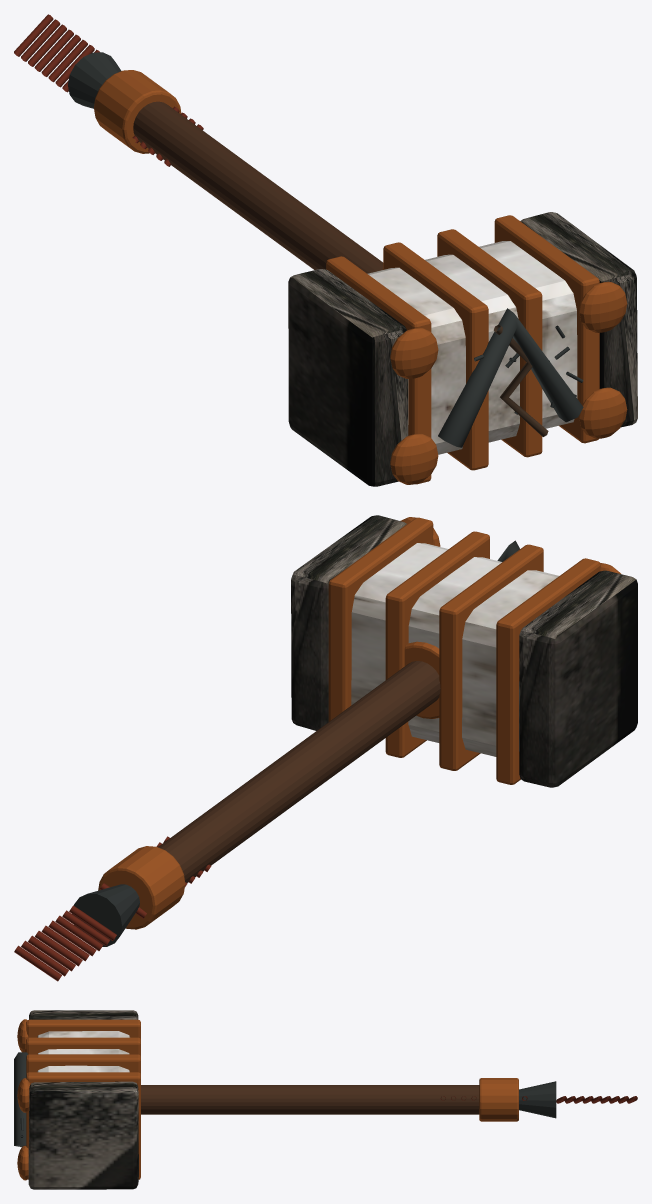
File: colossus_maul_LOD0.glb
The picture shows the model from 3 angles, top to bottom: view 1: azimuth 30°, elevation 25°; view 2: azimuth 150°, elevation 25°; view 3: azimuth 270°, elevation 25°; orthographic projection. The views are drawn at different scales.
Visible parts, largest first — view 1: MaulImpactFace, ColossusMaulStoneCore, MaulBlackOakHaft, MaulImpactFace.001, MaulLambda, MaulBronzeBand.002, MaulBronzeBand.001, MaulBronzeBand.003, MaulBronzeBand, MaulButtCap, MaulBronzeBoss.001, MaulBronzeBoss (+4 smaller); view 2: MaulImpactFace, ColossusMaulStoneCore, MaulBlackOakHaft, MaulImpactFace.001, MaulBronzeBand.001, MaulBronzeBand, MaulBronzeBand.003, MaulBronzeBand.002, MaulButtCap, MaulButtSpike, MaulBronzeSocket; view 3: MaulImpactFace.001, MaulBlackOakHaft, MaulButtCap, ColossusMaulStoneCore, MaulBronzeBand, MaulBronzeBand.002, MaulBronzeBand.001, MaulBronzeBand.003, MaulButtSpike, MaulImpactFace, MaulLambda, MaulBronzeBoss.003 (+2 smaller).
Boxes of the visible parts, box(x1,y1,x2,y2) form: MaulImpactFace: box(288, 269, 408, 486); ColossusMaulStoneCore: box(367, 241, 577, 454); MaulBlackOakHaft: box(133, 101, 383, 273); MaulImpactFace.001: box(520, 212, 637, 427); MaulLambda: box(438, 308, 583, 447); MaulBronzeBand.002: box(437, 229, 542, 457); MaulBronzeBand.001: box(383, 242, 488, 470); MaulBronzeBand.003: box(494, 215, 599, 443); MaulBronzeBand: box(326, 256, 431, 484); MaulButtCap: box(94, 70, 181, 153); MaulBronzeBoss.001: box(390, 328, 438, 378); MaulBronzeBoss: box(390, 434, 438, 484); MaulImpactFace: box(519, 570, 637, 787); ColossusMaulStoneCore: box(351, 543, 558, 756); MaulBlackOakHaft: box(158, 661, 440, 882); MaulImpactFace.001: box(291, 515, 406, 730); MaulBronzeBand.001: box(439, 544, 543, 770); MaulBronzeBand: box(496, 558, 600, 784); MaulBronzeBand.003: box(328, 517, 433, 721); MaulBronzeBand.002: box(385, 531, 489, 757); MaulButtCap: box(98, 846, 185, 929); MaulButtSpike: box(72, 884, 139, 946); MaulBronzeSocket: box(404, 641, 439, 718); MaulImpactFace.001: box(28, 1081, 138, 1189); MaulBlackOakHaft: box(141, 1085, 479, 1114); MaulButtCap: box(479, 1078, 518, 1121); ColossusMaulStoneCore: box(37, 1031, 129, 1072); MaulBronzeBand: box(26, 1019, 140, 1039); MaulBronzeBand.002: box(26, 1054, 140, 1074); MaulBronzeBand.001: box(26, 1037, 140, 1056); MaulBronzeBand.003: box(26, 1072, 140, 1179); MaulButtSpike: box(519, 1081, 556, 1118); MaulImpactFace: box(29, 1010, 138, 1019); MaulLambda: box(14, 1052, 28, 1146); MaulBronzeBoss.003: box(17, 1078, 30, 1112).
Size of the model in its own units: 0.8029 by 0.46 by 2.51.
7 materials, 2 textured.
